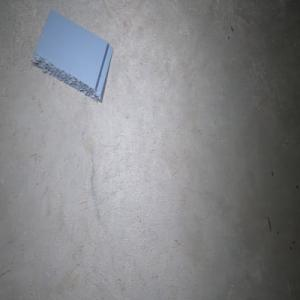PlasticPart: (30, 8, 113, 103)
